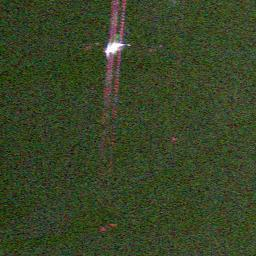Ship: (100, 39, 131, 57)
